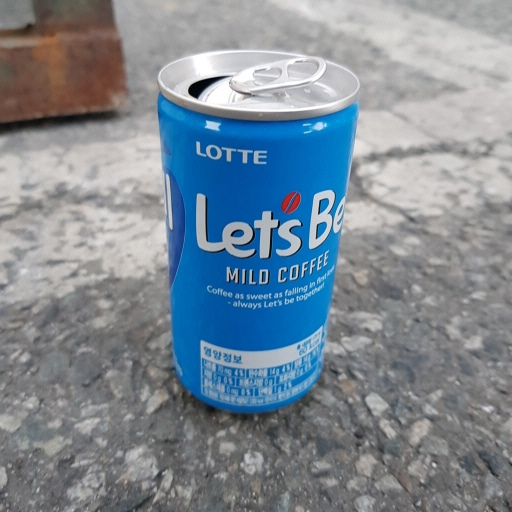Metal_0: (154, 47, 363, 417)
